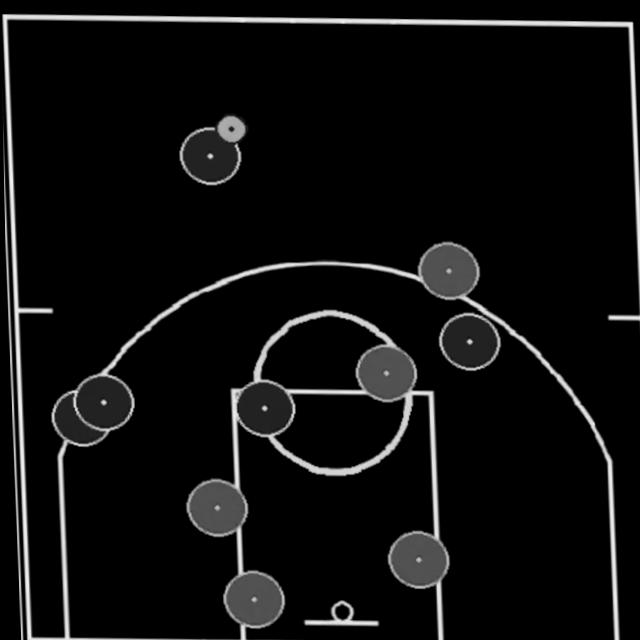Basketball: (213, 109, 247, 140)
Team_A: (432, 305, 500, 370), (231, 376, 293, 435), (49, 386, 111, 445), (70, 371, 132, 430), (177, 124, 239, 182)
Team_B: (414, 237, 478, 298), (218, 566, 281, 626), (384, 525, 447, 585), (181, 475, 244, 535), (351, 340, 414, 399)
